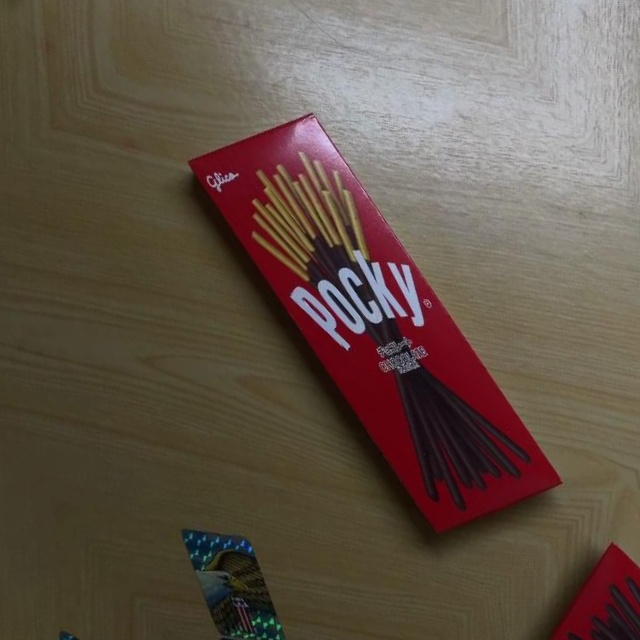Pocky: (147, 77, 601, 569)
